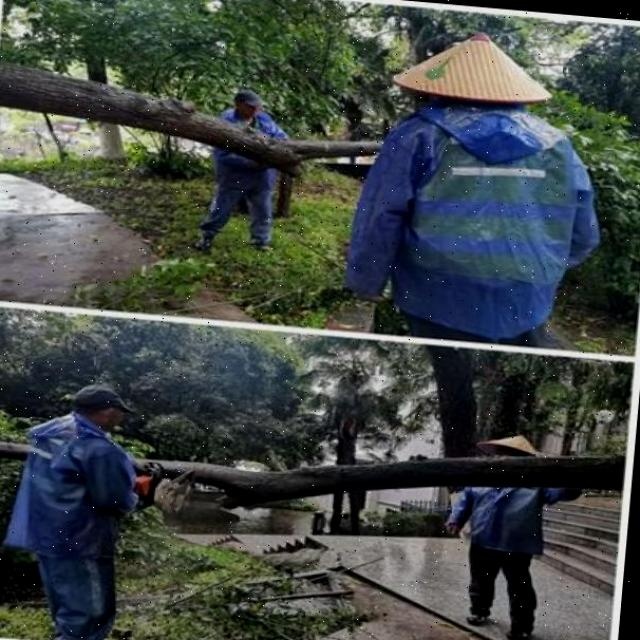fallen_object: (0, 393, 634, 538), (0, 60, 404, 186)
